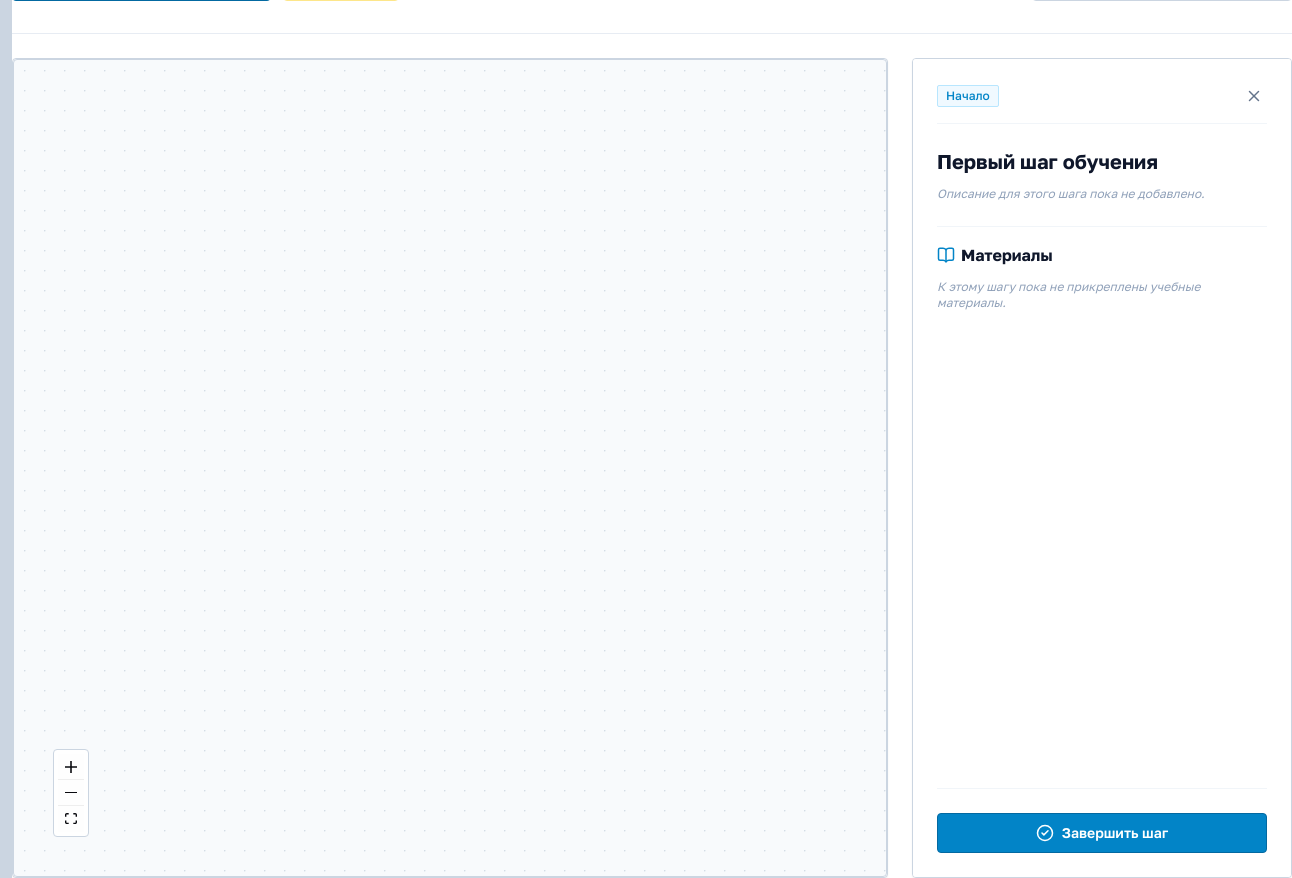
RoadmapViewerWidget › успешно выбирает узел на холсте при клике и сбрасывает выбор при клике на свободную область
Earlier steps of the test are not shown.
(page scrolled)
Click the element with class "react-flow__pane": click(450, 468) [14,60,886,876]
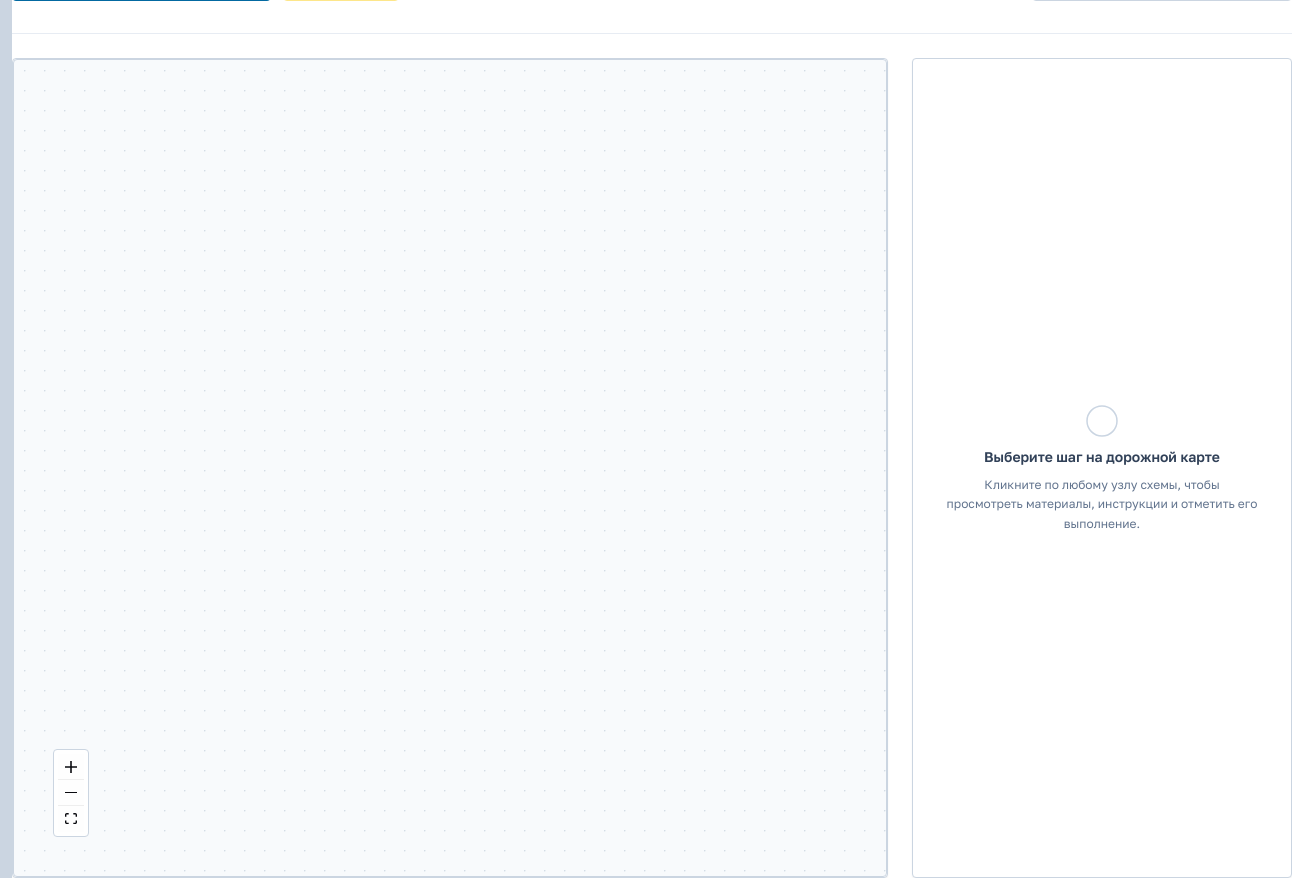
Result: the element with test id "viewer-node-details-empty" is shown at [947,403,1257,531]
